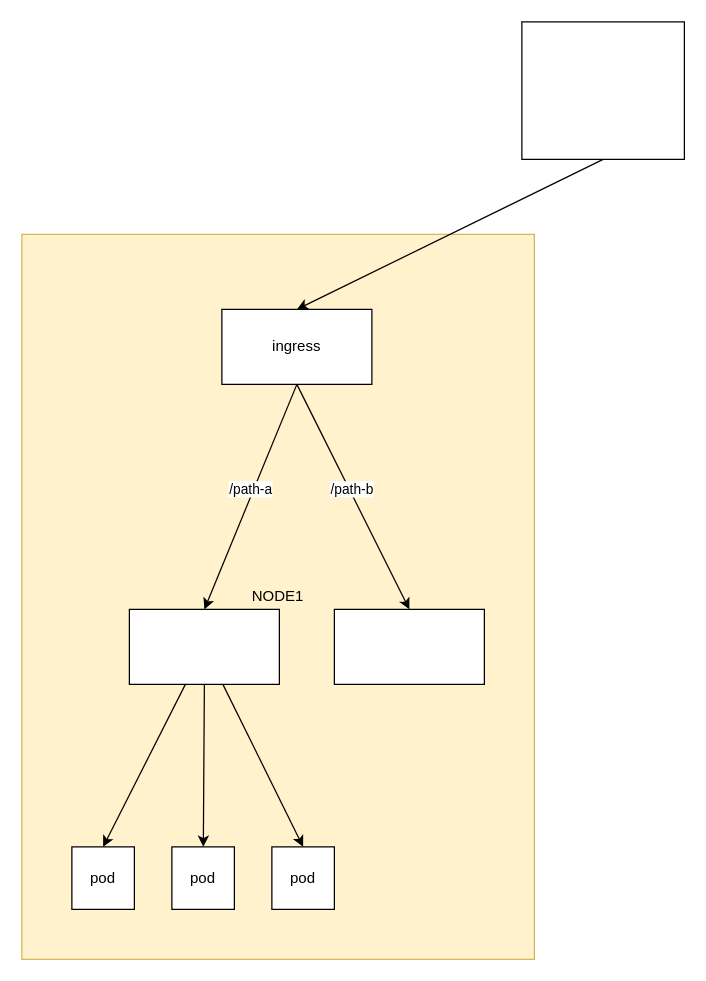
This 706x981 diagram has some shape labels left out. The shapes that lost their labels are listed below. From the top down, each one's centre as x and y in pixels, then its label:
At [602,90]: "LB Ingress 由于在多个node上，会有很多ip，所以要抽象出一个固定 lb的 id".
At [203,646]: "serviceA".
At [408,646]: "serviceB".
